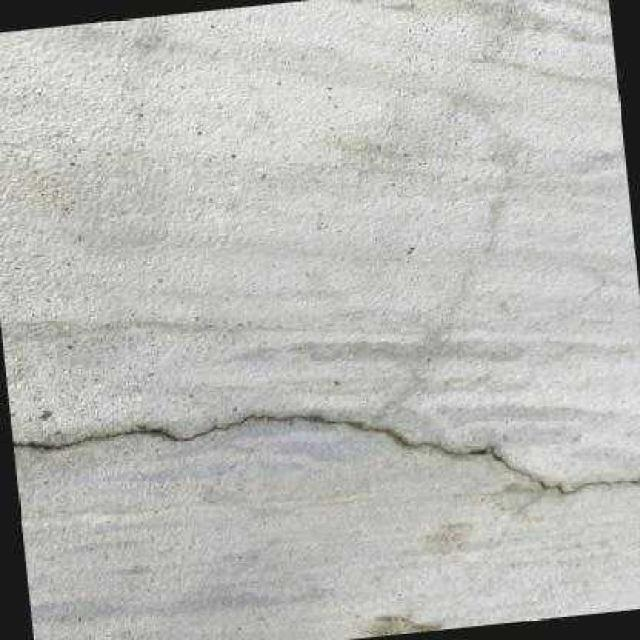D00: (11, 415, 640, 493)
